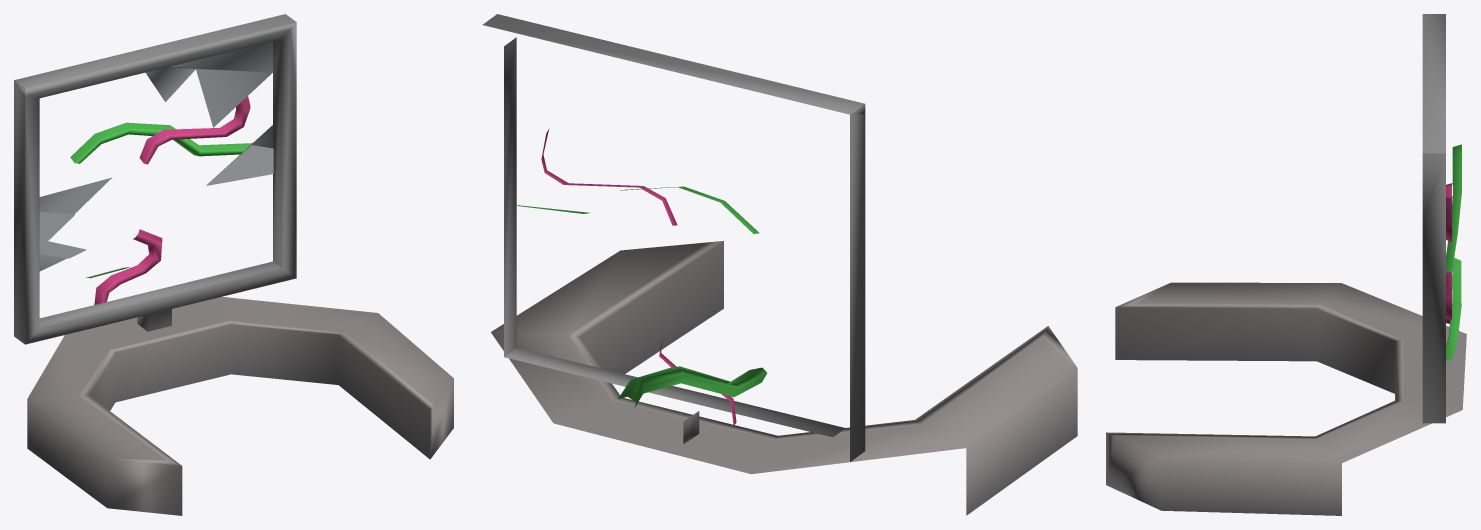
The model's file is LightHouseMirrorBroken.glb.
The picture shows the model from 3 angles, left to right: view 1: azimuth 30°, elevation 25°; view 2: azimuth 150°, elevation 25°; view 3: azimuth 270°, elevation 25°; orthographic projection. The views are drawn at different scales.
Parts seen in each view (by area): view 1: LightHouseMirrorBroken; view 2: LightHouseMirrorBroken; view 3: LightHouseMirrorBroken.
Boxes of the visible parts, bbox=[...] form: LightHouseMirrorBroken: bbox=[14, 14, 453, 515]; LightHouseMirrorBroken: bbox=[482, 14, 1077, 515]; LightHouseMirrorBroken: bbox=[1106, 14, 1466, 515].
Bounding box in the file's own units: 1.85 × 1.62 × 1.56.
